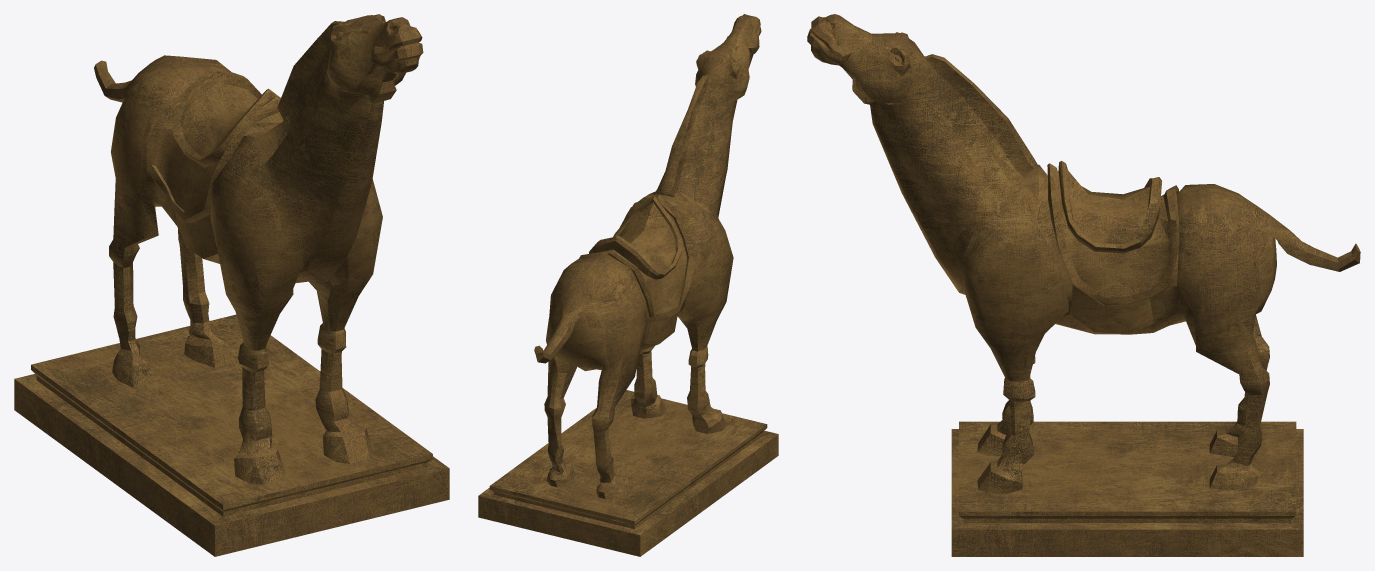
File: Figure 2.FBX
3 views of the same model, side by side, from view 1: azimuth 30°, elevation 25°; view 2: azimuth 150°, elevation 25°; view 3: azimuth 270°, elevation 25° (orthographic). The views are drawn at different scales.
Visible parts, largest first — view 1: figure 2; view 2: figure 2; view 3: figure 2.
Boxes of the visible parts, box(x1,y1,x2,y2) form: figure 2: box(14, 14, 449, 556); figure 2: box(478, 14, 778, 556); figure 2: box(807, 14, 1360, 556).
Size of the model in its own units: 14.09 by 32.03 by 32.76.
